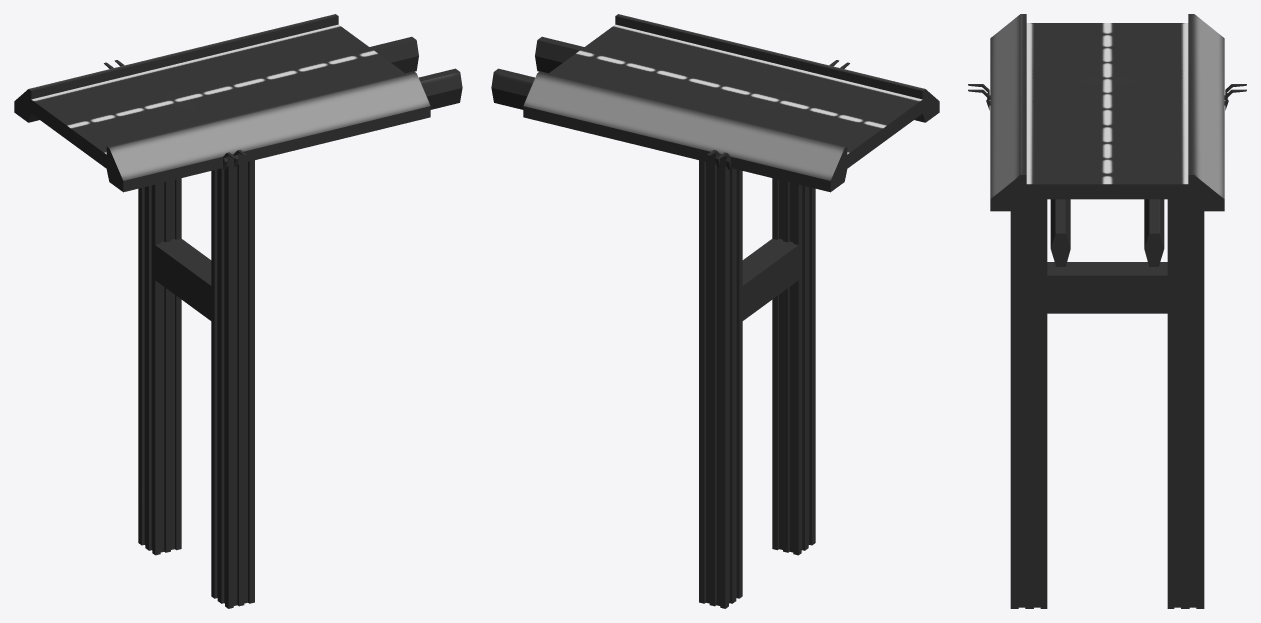
The model's file is bridge.fbx.
3 views of the same model, side by side, from view 1: azimuth 30°, elevation 25°; view 2: azimuth 150°, elevation 25°; view 3: azimuth 270°, elevation 25° (orthographic). The views are drawn at different scales.
Parts seen in each view (by area): view 1: Cube; view 2: Cube; view 3: Cube.
Boxes of the visible parts, box(x1,y1,x2,y2) form: Cube: box(14, 14, 462, 608); Cube: box(491, 14, 939, 608); Cube: box(968, 14, 1246, 608).
Bounding box in the file's own units: 6812 × 8600 × 4170.
Materials: 1 (1 with a texture image).
